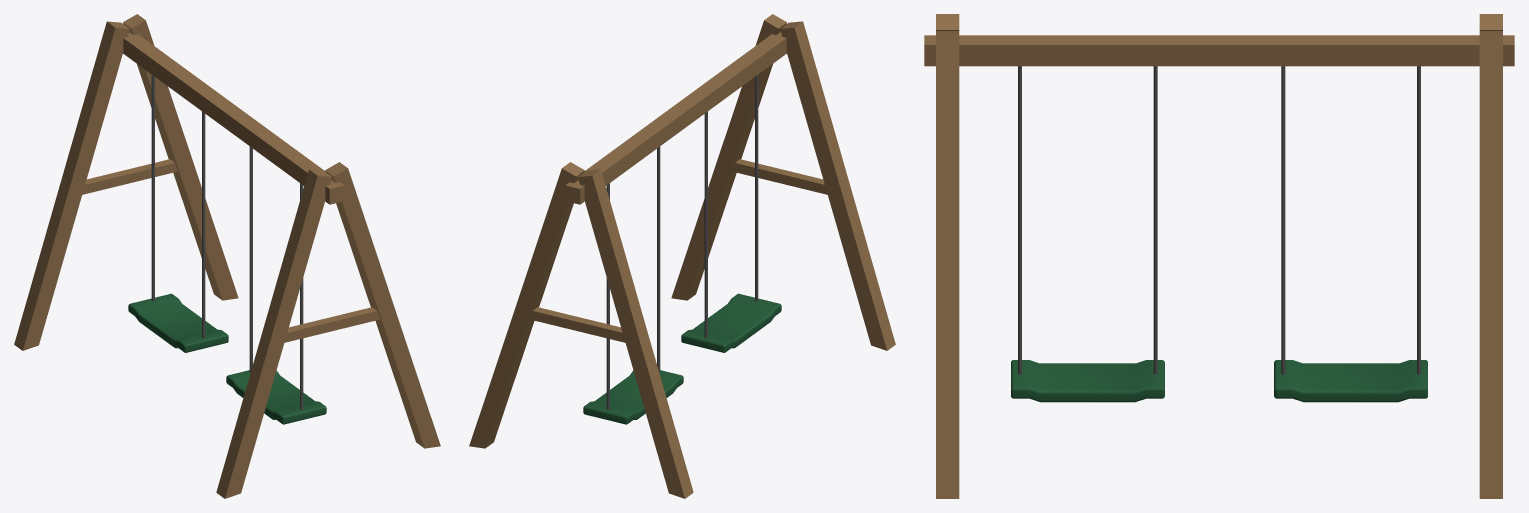
3 renders of one model, left to right at view 1: azimuth 30°, elevation 25°; view 2: azimuth 150°, elevation 25°; view 3: azimuth 270°, elevation 25°, orthographic. The views are drawn at different scales.
Parts seen in each view (by area): view 1: leg.003, leg.001, leg, beam, leg.002, seat.001, seat, crossbar, crossbar.001, suspension.004, suspension.003, suspension.002 (+1 smaller); view 2: leg.001, leg.003, leg.002, beam, leg, seat, seat.001, crossbar.001, crossbar, suspension.001, suspension.002, suspension.003 (+1 smaller); view 3: beam, leg, leg.002, seat.001, seat, suspension.003, suspension.002, suspension.004, suspension.001.
Part boxes in pixels (x1,y1,x2,y2): leg.003: (14,21,129,350); leg.001: (216,169,331,498); leg: (325,162,440,448); beam: (123,32,344,204); leg.002: (123,14,238,300); seat.001: (128,293,228,352); seat: (226,370,326,424); crossbar: (284,307,379,342); crossbar.001: (82,159,177,194); suspension.004: (151,75,154,301); suspension.003: (202,111,205,338); suspension.002: (249,146,252,372); leg.001: (780,21,895,350); leg.003: (578,169,693,498); leg.002: (469,162,584,448); beam: (565,32,786,204); leg: (671,14,786,300); seat: (681,293,781,352); seat.001: (583,370,683,424); crossbar.001: (530,307,625,342); crossbar: (732,159,827,194); suspension.001: (755,75,758,301); suspension.002: (704,111,707,338); suspension.003: (657,146,660,372); beam: (924,35,1514,66); leg: (936,31,959,498); leg.002: (1479,31,1502,498); seat.001: (1274,360,1427,402); seat: (1011,360,1164,402); suspension.003: (1281,66,1285,374); suspension.002: (1153,66,1157,374); suspension.004: (1417,66,1420,374); suspension.001: (1018,66,1021,374).
Size of the model in its own units: 1.14 by 1.51 by 2.
